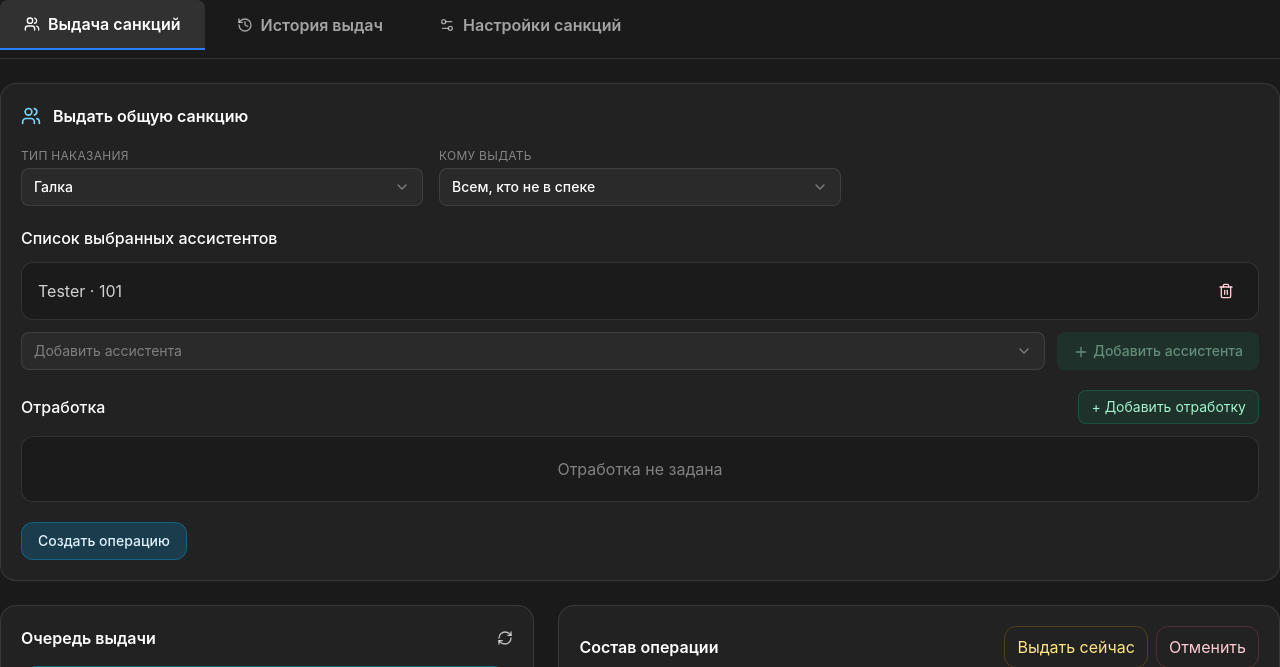
it: SanctionsQueueManagement › shows skipped_leave counters and labels in history details
expect the heading "Очередь выдачи" is shown: met, box [21, 626, 156, 650]
Click the button "История выдач" at (310, 25), box [213, 0, 407, 50]
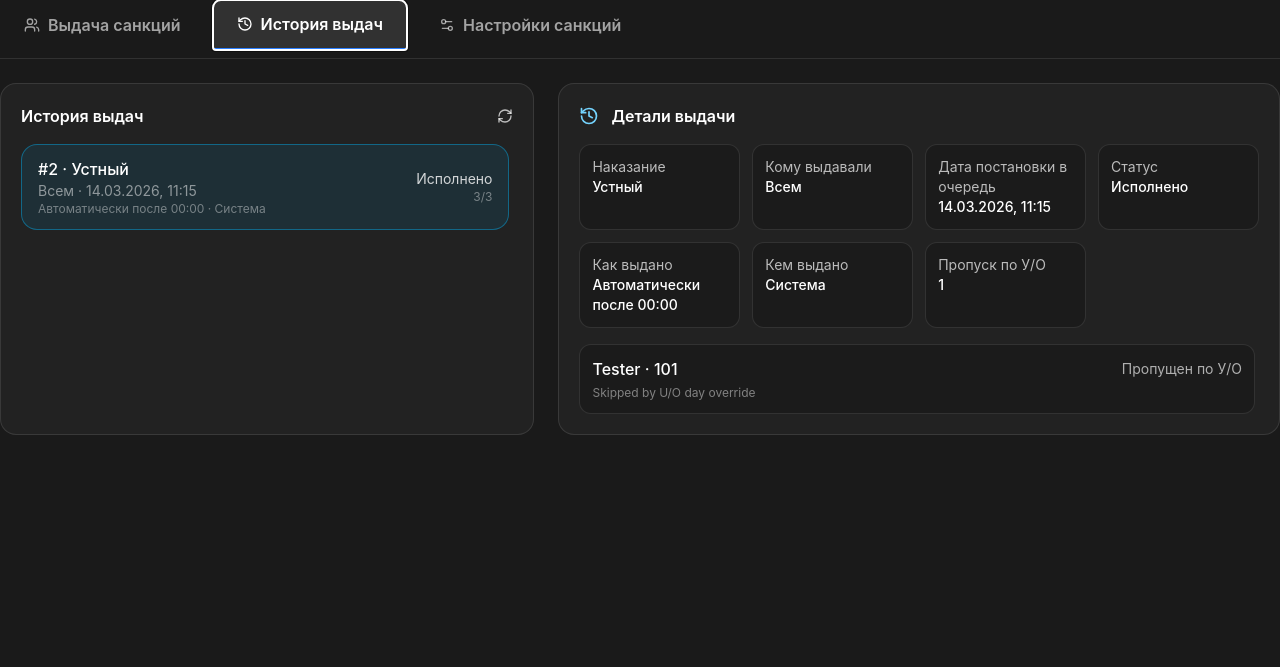
expect the text "Пропуск по У/О" is shown: met, box [938, 256, 1046, 273]
expect the text "Skipped by U/O day override" is shown: met, box [592, 385, 756, 400]
